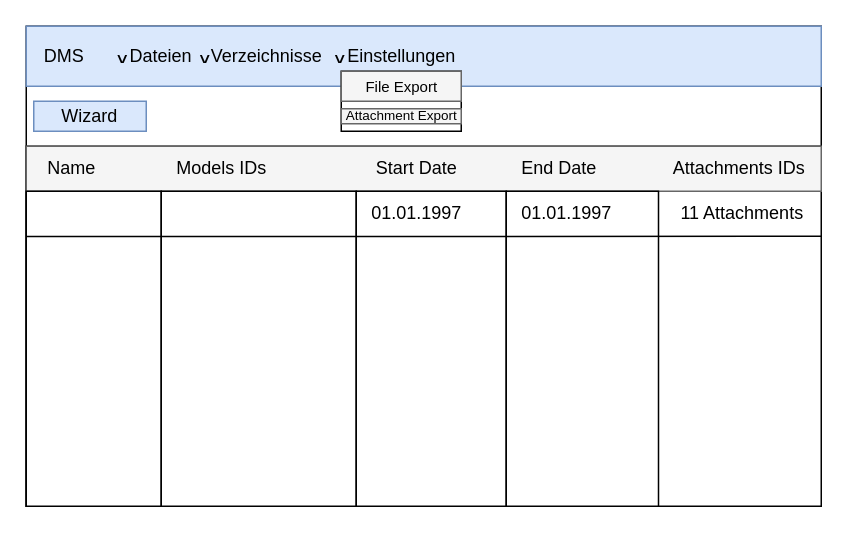
Some shapes in this 849 by 533 pixel diagram are drawn without their labels. The box of each missing label's shape, as (x1, y1, x2, y2) in pixels:
Example Export: (25, 190, 161, 506)
Invoice, Country: (160, 190, 356, 506)
